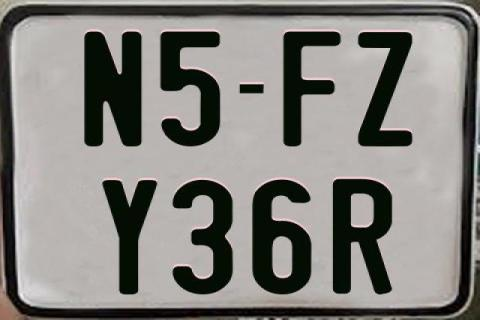0: (170, 179, 236, 295), (249, 180, 312, 300), (158, 30, 223, 146)
F: (282, 31, 341, 147)
N: (81, 31, 140, 151)
R: (331, 177, 395, 297)
Y: (101, 178, 160, 296)
Z: (356, 32, 410, 149)
